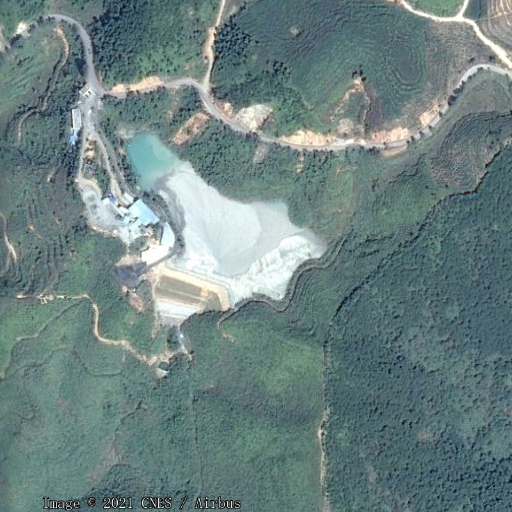tp: (116, 127, 319, 322)
